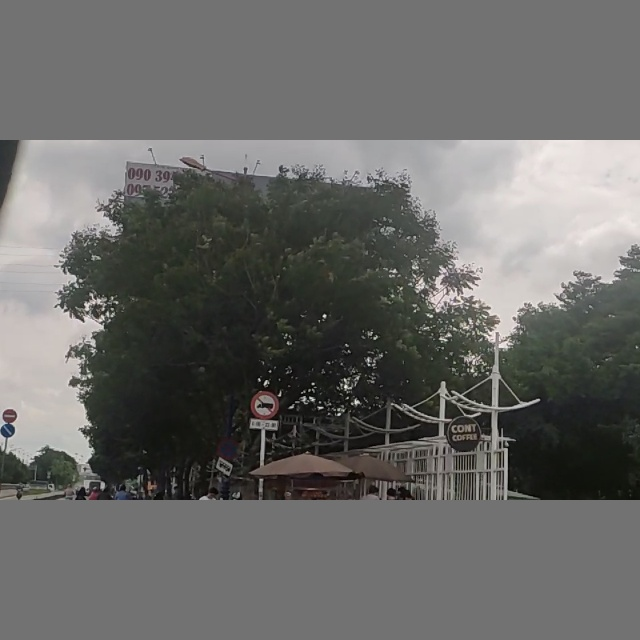B.8a: (251, 392, 281, 431)
P.102: (1, 409, 17, 423)
R.302a: (1, 423, 15, 438)
